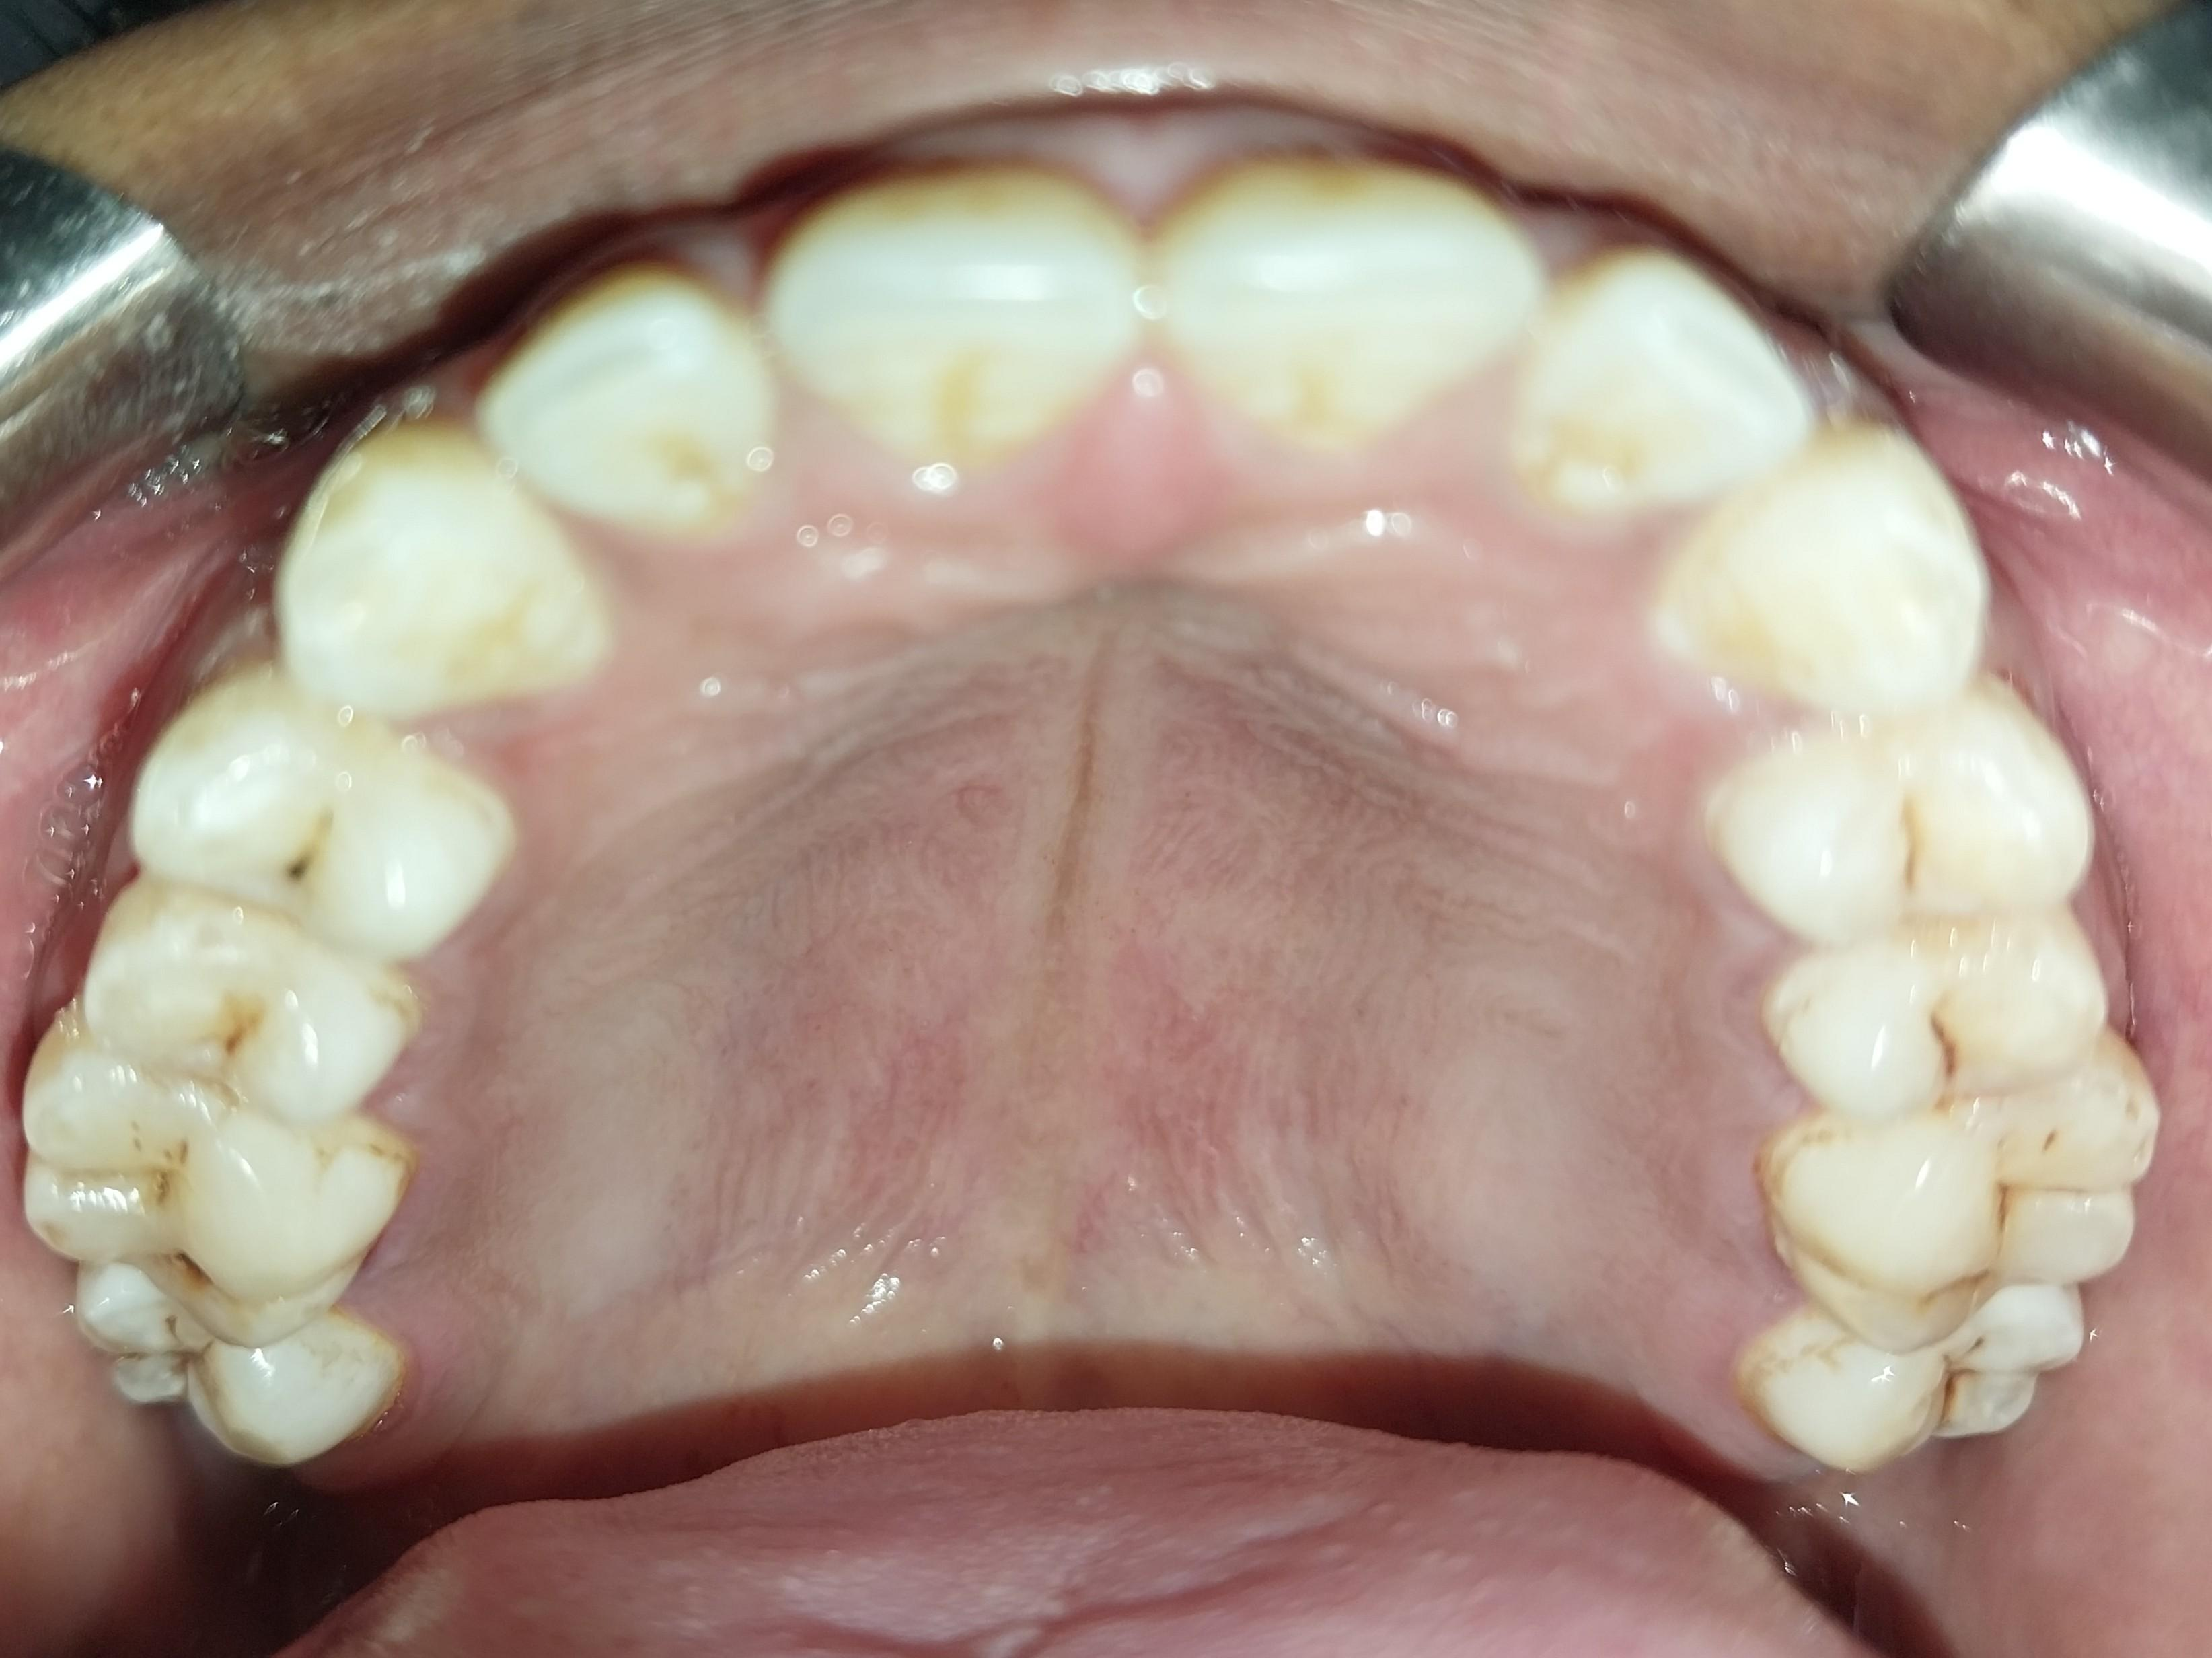D: (15, 1028, 383, 1330), (113, 697, 514, 943), (66, 1274, 400, 1471), (1742, 1286, 2084, 1468)
